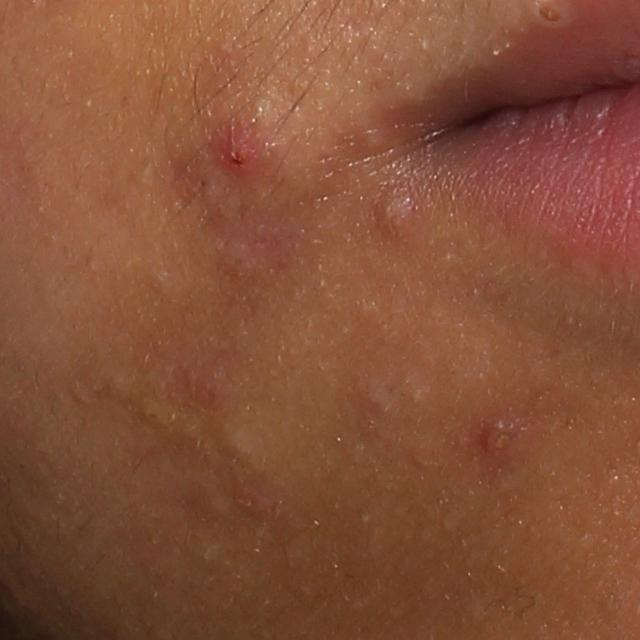comedo: (229, 483, 283, 531), (226, 433, 265, 473), (136, 403, 176, 440), (533, 6, 561, 31)
papule: (204, 112, 278, 182), (476, 410, 530, 466), (372, 193, 418, 241)
